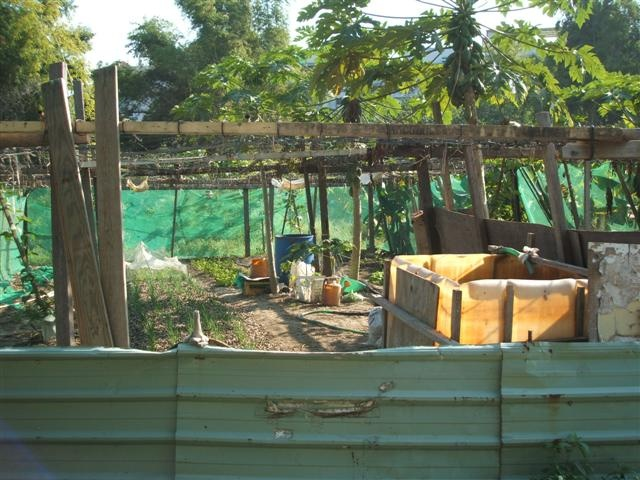box: (386, 251, 588, 348)
bucket: (276, 233, 316, 285), (324, 281, 344, 308), (248, 256, 268, 279)
